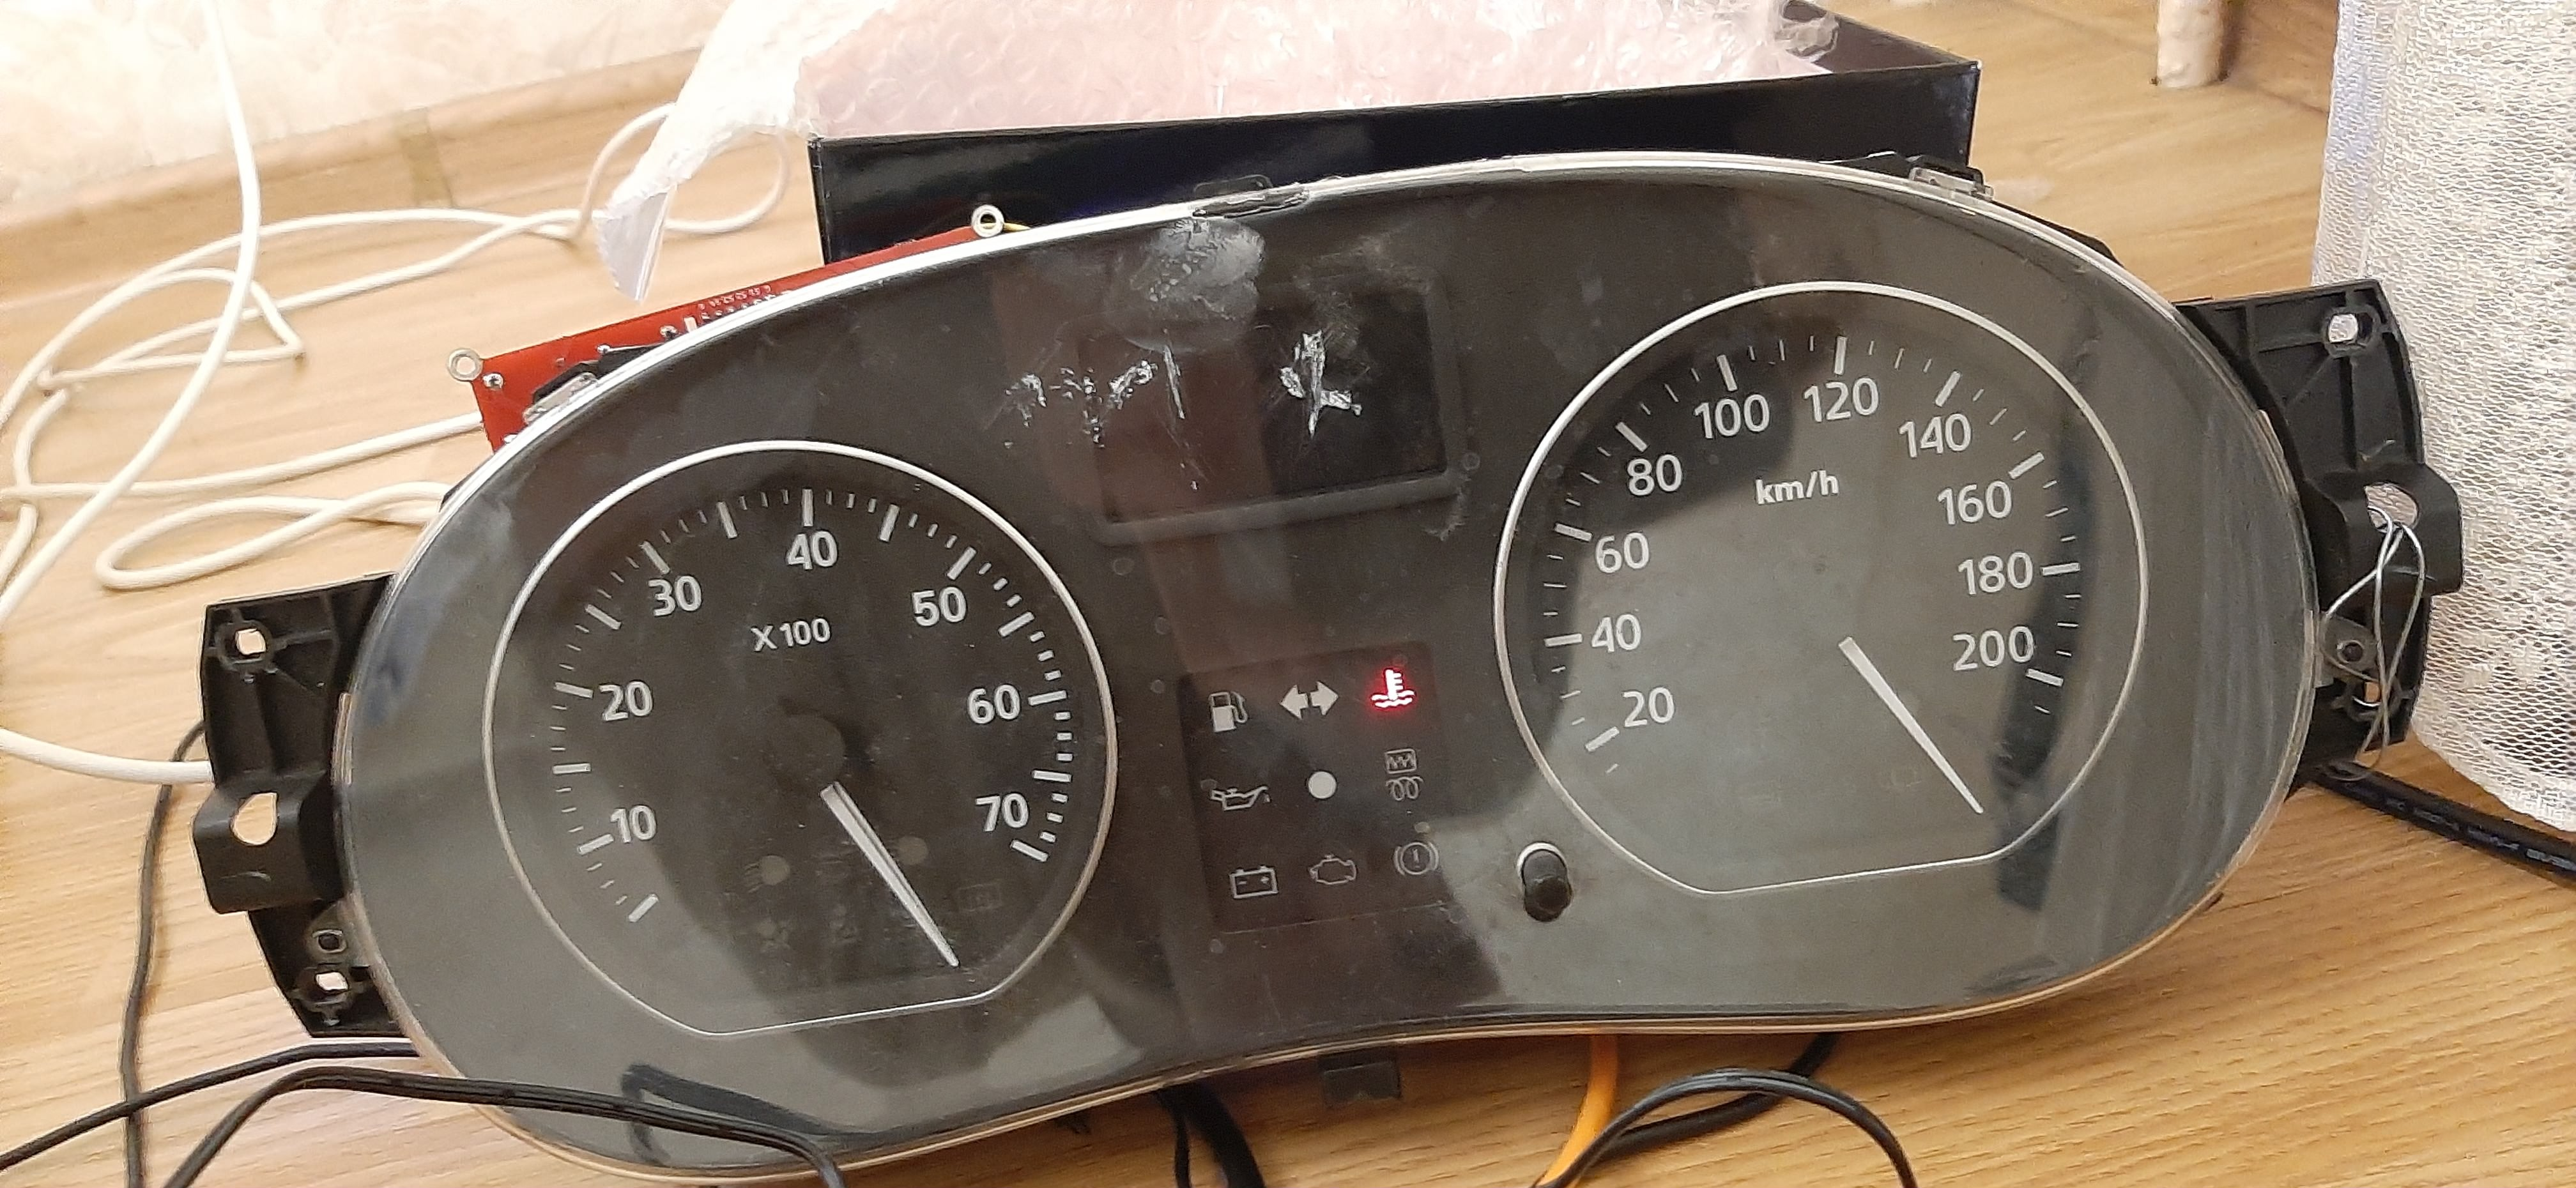Engine Overheating10: (1368, 667, 1419, 708)
